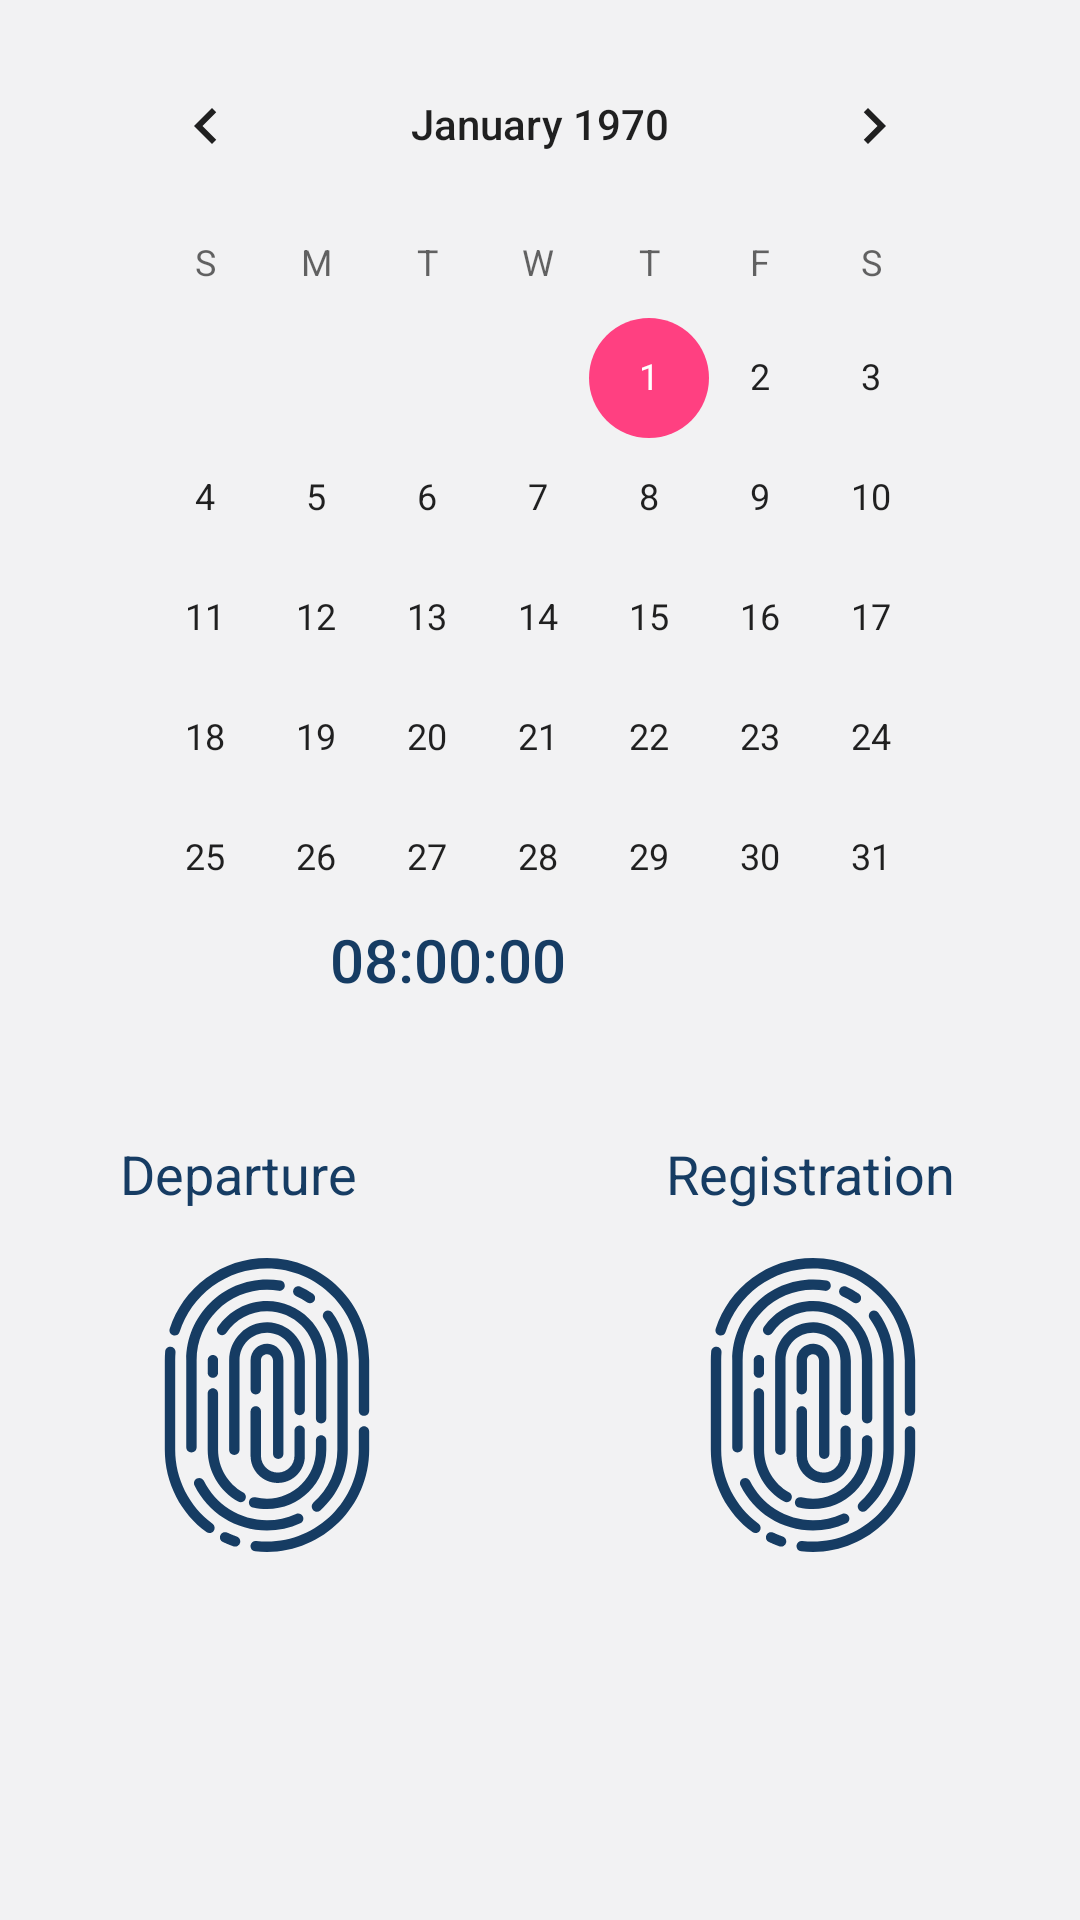

Where to tap for icons on this 1080px×1920px app screen, as [x,y]:
fingerprint: [267,1405], [813,1405]
